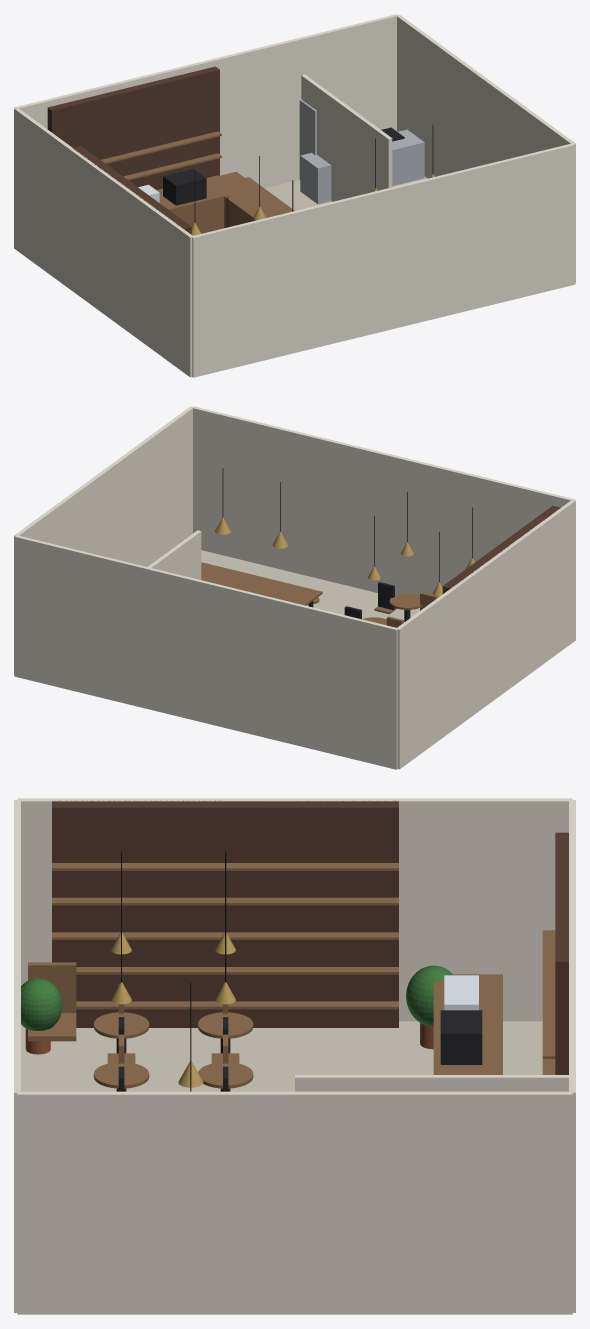
The model's file is cafe.obj.
3 views of the same model, one above another, from view 1: azimuth 30°, elevation 25°; view 2: azimuth 150°, elevation 25°; view 3: azimuth 270°, elevation 25° (orthographic). The views are drawn at different scales.
Visible parts, largest first — view 1: WallFront, WallLeft, WallBack, WallRight, BackBar, WallKitchen, KitchenCounter, BarH, BarV, EspressoMachine, BookWall, Fridge (+3 smaller); view 2: WallBack, WallFront, WallLeft, WallRight, Floor, LongTable, WallKitchen, BookWall; view 3: WallRight, BookWall, WallLeft, Floor, WallKitchen, BarH, BackBar, BookShelf3, WallBack, WallFront, BookShelf0, BookShelf4 (+13 smaller).
Boxes of the visible parts, x1,y1,x2,y2 form: WallFront: (191,143,575,377); WallLeft: (14,108,193,377); WallBack: (14,14,398,188); WallRight: (396,14,575,283); BackBar: (47,66,219,190); WallKitchen: (301,74,392,201); KitchenCounter: (300,129,424,204); BarH: (158,171,258,233); BarV: (211,177,294,228); EspressoMachine: (163,168,206,205); BookWall: (72,146,191,234); Fridge: (299,93,345,179); WallBack: (14,535,398,769); WallFront: (191,406,575,598); WallLeft: (397,500,575,769); WallRight: (14,406,193,675); Floor: (201,550,419,622); LongTable: (201,562,322,605); WallKitchen: (148,530,201,579); BookWall: (442,506,560,593); WallRight: (17,1091,572,1314); BookWall: (52,800,398,1027); WallLeft: (17,798,572,1021); Floor: (21,1021,542,1091); WallKitchen: (295,1075,568,1091); BarH: (433,974,502,1074); BackBar: (555,832,568,1074); BookShelf3: (52,897,398,905); WallBack: (569,800,575,1312); WallFront: (14,800,20,1312); BookShelf0: (76,1001,398,1009); BookShelf4: (52,863,398,870).
Bounding box in the file's own units: 10.1 × 3.5 × 8.1.
